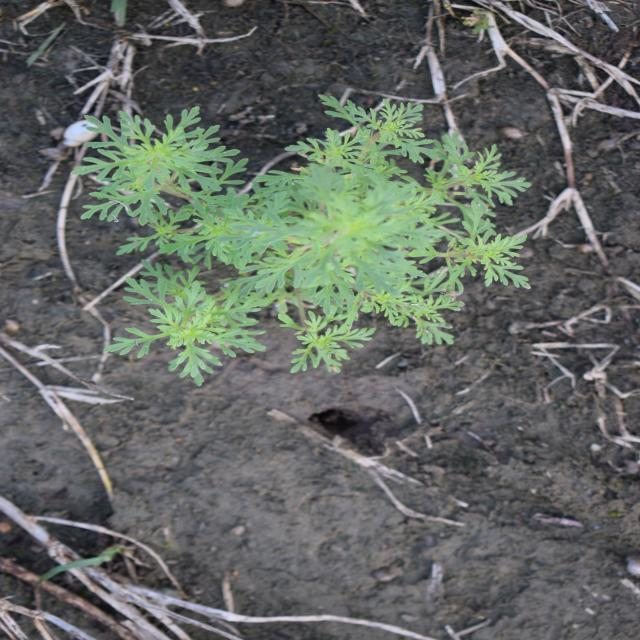Ragweed: (69, 91, 538, 388)
